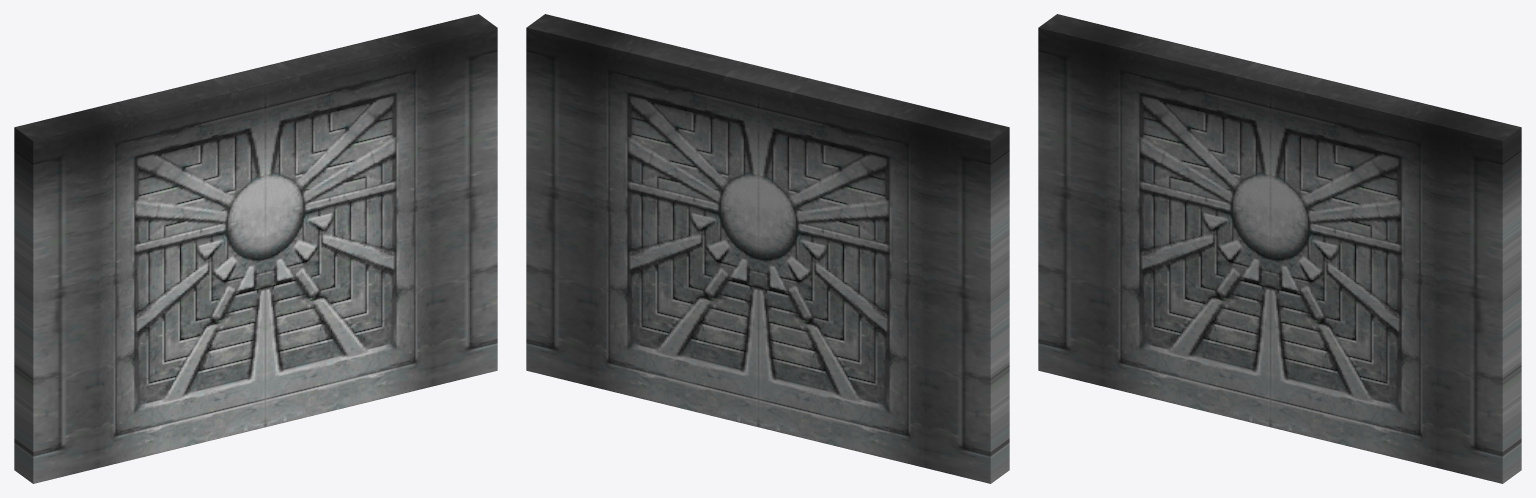
Rendered from doorOfTime_edit_for_FBX.fbx.
The picture shows the model from 3 angles, left to right: view 1: azimuth 30°, elevation 25°; view 2: azimuth 150°, elevation 25°; view 3: azimuth 330°, elevation 25°; orthographic projection.
Visible parts, largest first — view 1: doorOfTime; view 2: doorOfTime; view 3: doorOfTime.
Part boxes in pixels (left/top/right/bottom): doorOfTime: left=14, top=14, right=497, bottom=483; doorOfTime: left=526, top=14, right=1009, bottom=483; doorOfTime: left=1038, top=14, right=1521, bottom=483.
Bounding box in the file's own units: 2836 × 2000 × 200.
